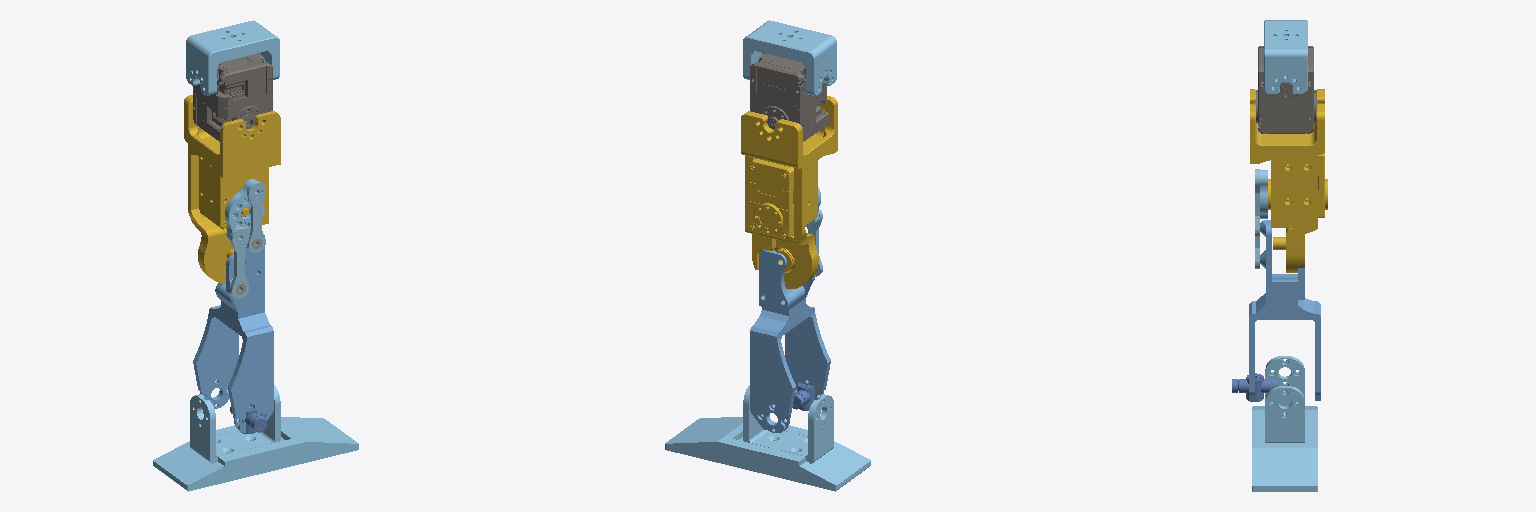
robot.urdf — left_leg_OP3:
<?xml version="1.0" ?><robot name="left_leg_OP3">  
  <link name="hip_yaw_link">    
    <visual>      
      <origin xyz="0 0 0" rpy="0 -0 0"/>      
      <geometry>        
        <mesh filename="package:///meshes/left_hip_yaw_link_visual.stl"/>        
      </geometry>      
      <material name="hip_yaw_link_material">        
        <color rgba="0.61568627450980395466 0.81176470588235294379 0.92941176470588238168 1.0"/>        
      </material>      
    </visual>    
    <collision>      
      <origin xyz="0 0 0" rpy="0 -0 0"/>      
      <geometry>        
        <mesh filename="package:///meshes/left_hip_yaw_link_collision.stl"/>        
      </geometry>      
    </collision>    
    <inertial>      
      <origin xyz="1.0532246795734317281e-18 -3.2729265647360023203e-19 -0.0098919667346054479529" rpy="0 0 0"/>      
      <mass value="0.01799999999999999864"/>      
      <inertia ixx="2.6483505271519531846e-06" ixy="0" ixz="0" iyy="7.705535799600823457e-06" iyz="0" izz="7.773668280680534143e-06"/>      
    </inertial>    
  </link>  

  <link name="hip_roll_link">    
    <visual>      
      <origin xyz="0 0 0" rpy="0 -0 0"/>      
      <geometry>        
        <mesh filename="package:///meshes/left_hip_roll_link_visual.stl"/>        
      </geometry>      
      <material name="hip_roll_link_material">        
        <color rgba="0.51698661238356047321 0.5034781595109349972 0.49050589017722018292 1.0"/>        
      </material>      
    </visual>    
    <collision>      
      <origin xyz="0 0 0" rpy="0 -0 0"/>      
      <geometry>        
        <mesh filename="package:///meshes/left_hip_roll_link_collision.stl"/>        
      </geometry>      
    </collision>    
    <inertial>      
      <origin xyz="-0.011999849582186212366 -0.00049598090793881183941 -0.018504111838599408835" rpy="0 0 0"/>      
      <mass value="0.11059999999836234164"/>      
      <inertia ixx="2.281880259901900124e-05" ixy="-4.6520143286870959553e-08" ixz="-4.6888548260596745746e-08" iyy="3.087163208233954277e-05" iyz="-5.7477343899715787239e-07" izz="3.0871666424470034398e-05"/>      
    </inertial>    
  </link>  

  <link name="left_hip_pitch_link_xm430">    
    <visual>      
      <origin xyz="0 0 0" rpy="0 -0 0"/>      
      <geometry>        
        <mesh filename="package:///meshes/left_hip_pitch_link_xm430_visual.stl"/>        
      </geometry>      
      <material name="left_hip_pitch_link_xm430_material">        
        <color rgba="0.87072221357329560032 0.72641010956094276274 0.24785169615220697947 1.0"/>        
      </material>      
    </visual>    
    <collision>      
      <origin xyz="0 0 0" rpy="0 -0 0"/>      
      <geometry>        
        <mesh filename="package:///meshes/left_hip_pitch_link_xm430_collision.stl"/>        
      </geometry>      
    </collision>    
    <inertial>      
      <origin xyz="-0.00075729214155279033546 -0.050714785675264821563 -0.012656155119959981714" rpy="0 0 0"/>      
      <mass value="0.11480090135030569798"/>      
      <inertia ixx="6.6072773889430661183e-05" ixy="-4.6080149277689905206e-07" ixz="-1.8170739115337356869e-07" iyy="2.3633638685370106613e-05" iyz="1.4125253925345286349e-06" izz="6.2221728804333952868e-05"/>      
    </inertial>    
  </link>  

  <link name="left_calf_link">    
    <visual>      
      <origin xyz="0 0 0" rpy="0 -0 0"/>      
      <geometry>        
        <mesh filename="package:///meshes/left_calf_link_visual.stl"/>        
      </geometry>      
      <material name="left_calf_link_material">        
        <color rgba="0.522707147375079062 0.70740037950664136357 0.87533206831119547697 1.0"/>        
      </material>      
    </visual>    
    <collision>      
      <origin xyz="0 0 0" rpy="0 -0 0"/>      
      <geometry>        
        <mesh filename="package:///meshes/left_calf_link_collision.stl"/>        
      </geometry>      
    </collision>    
    <inertial>      
      <origin xyz="-0.0044698992063319413839 -0.040537655000345590439 -0.0094043191617599157517" rpy="0 0 0"/>      
      <mass value="0.030999999999999992839"/>      
      <inertia ixx="3.2349006752265086297e-05" ixy="1.4910956274418749833e-06" ixz="1.9651815973591472585e-07" iyy="7.7183393965099278557e-06" iyz="-6.2686077155119481266e-07" izz="2.7323441483284140397e-05"/>      
    </inertial>    
  </link>  

  <link name="bearing_683">    
    <visual>      
      <origin xyz="0 0 0" rpy="0 -0 0"/>      
      <geometry>        
        <mesh filename="package:///meshes/left_bearing_683_visual.stl"/>        
      </geometry>      
      <material name="bearing_683_material">        
        <color rgba="0.64705882352941179736 0.64705882352941179736 0.64705882352941179736 1.0"/>        
      </material>      
    </visual>    
    <collision>      
      <origin xyz="0 0 0" rpy="0 -0 0"/>      
      <geometry>        
        <mesh filename="package:///meshes/left_bearing_683_collision.stl"/>        
      </geometry>      
    </collision>    
    <inertial>      
      <origin xyz="2.786289655858141405e-17 6.2549399515683277405e-19 -0.0015499999999999966929" rpy="0 0 0"/>      
      <mass value="0.00048694686130641804279"/>      
      <inertia ixx="2.1551456503319891521e-09" ixy="7.2107569177297500958e-29" ixz="-4.254742854166947675e-37" iyy="2.1551456503319883249e-09" iyz="-6.7488489126465339793e-38" izz="3.5303647444715305817e-09"/>      
    </inertial>    
  </link>  

  <joint name="left_knee_front_rev_2" type="revolute">    
    <origin xyz="-0.0057402514854763509941 0.013858192987669243346 -0.026199999999999896982" rpy="3.0668764952338581412e-14 -2.4824741237762853711e-14 1.5765933876572135741"/>    
    <parent link="left_calf_link"/>    
    <child link="bearing_683"/>    
    <axis xyz="0 0 1"/>    
    <limit effort="1" velocity="20" lower="-6.283185307179586232" upper="6.283185307179586232"/>    
    <joint_properties friction="0.0"/>    
  </joint>  

  <link name="bearing_683_2">    
    <visual>      
      <origin xyz="0 0 0" rpy="0 -0 0"/>      
      <geometry>        
        <mesh filename="package:///meshes/left_bearing_683_2_visual.stl"/>        
      </geometry>      
      <material name="bearing_683_2_material">        
        <color rgba="0.64705882352941179736 0.64705882352941179736 0.64705882352941179736 1.0"/>        
      </material>      
    </visual>    
    <collision>      
      <origin xyz="0 0 0" rpy="0 -0 0"/>      
      <geometry>        
        <mesh filename="package:///meshes/left_bearing_683_2_collision.stl"/>        
      </geometry>      
    </collision>    
    <inertial>      
      <origin xyz="2.7862896558581346257e-17 -2.4186774283158165466e-19 -0.0015500000000000001624" rpy="0 0 0"/>      
      <mass value="0.00048694686130641804279"/>      
      <inertia ixx="2.1551456503319891521e-09" ixy="-2.277949408228188991e-28" ixz="-1.0479705396393147779e-37" iyy="2.1551456503319883249e-09" iyz="-5.2276028325327961159e-38" izz="3.5303647444715305817e-09"/>      
    </inertial>    
  </link>  

  <joint name="left_knee_back_rev_2" type="revolute">    
    <origin xyz="0.0057402514854763535962 -0.013858192987669326612 -0.026199999999999907391" rpy="4.2802438278248956281e-17 2.6960450327599089653e-16 1.5736949077299307032"/>    
    <parent link="left_calf_link"/>    
    <child link="bearing_683_2"/>    
    <axis xyz="0 0 1"/>    
    <limit effort="1" velocity="20" lower="-6.283185307179586232" upper="6.283185307179586232"/>    
    <joint_properties friction="0.0"/>    
  </joint>  

  <link name="ank_pitch_link">    
    <visual>      
      <origin xyz="0 0 0" rpy="0 -0 0"/>      
      <geometry>        
        <mesh filename="package:///meshes/left_ank_pitch_link_visual.stl"/>        
      </geometry>      
      <material name="ank_pitch_link_material">        
        <color rgba="0.42838831031765528534 0.55128652208657225042 0.74128917770314917135 1.0"/>        
      </material>      
    </visual>    
    <collision>      
      <origin xyz="0 0 0" rpy="0 -0 0"/>      
      <geometry>        
        <mesh filename="package:///meshes/left_ank_pitch_link_collision.stl"/>        
      </geometry>      
    </collision>    
    <inertial>      
      <origin xyz="-0.012383885521092496268 0.019663604311318850365 0.018862066178914258657" rpy="0 0 0"/>      
      <mass value="0.15976376693924948524"/>      
      <inertia ixx="9.8184006245900559673e-05" ixy="1.073844598249208729e-06" ixz="4.3555854014056574131e-08" iyy="4.2237181854198985686e-05" iyz="-4.1061630166375426993e-07" izz="0.00011168324060678236288"/>      
    </inertial>    
  </link>  

  <link name="ank_roll_link">    
    <visual>      
      <origin xyz="0 0 0" rpy="0 -0 0"/>      
      <geometry>        
        <mesh filename="package:///meshes/left_ank_roll_link_visual.stl"/>        
      </geometry>      
      <material name="ank_roll_link_material">        
        <color rgba="0.61568627450980384364 0.81176470588235294379 0.92941176470588238168 1.0"/>        
      </material>      
    </visual>    
    <collision>      
      <origin xyz="0 0 0" rpy="0 -0 0"/>      
      <geometry>        
        <mesh filename="package:///meshes/left_ank_roll_link_collision.stl"/>        
      </geometry>      
    </collision>    
    <inertial>      
      <origin xyz="-0.02698123077752402621 2.0010907056387168719e-12 -0.033733185742545877817" rpy="0 0 0"/>      
      <mass value="0.042600000000000005917"/>      
      <inertia ixx="3.7270477448019651533e-05" ixy="5.5380887099792218599e-16" ixz="-2.3925937758711028126e-06" iyy="3.7621548160200361322e-05" iyz="5.081685885004166252e-12" izz="1.012619291415883906e-05"/>      
    </inertial>    
  </link>  

  <joint name="left_ank_roll" type="revolute">    
    <origin xyz="-1.3877787807814456755e-15 0.022750000000004225176 0.019000000000006383311" rpy="1.5707963267949556219 8.2263916424954431126e-14 3.1415926535897686911"/>    
    <parent link="ank_pitch_link"/>    
    <child link="ank_roll_link"/>    
    <axis xyz="0 0 1"/>    
    <limit effort="1" velocity="20" lower="-1.570796326794896558" upper="1.570796326794896558"/>    
    <joint_properties friction="0.0"/>    
  </joint>  

  <joint name="left_ank_pitch" type="revolute">    
    <origin xyz="0.00050000000000001020191 -0.099999999999999866773 -0.029399999999999901906" rpy="1.3838214396829414281e-15 2.3817753328472465846e-15 -1.5707963267948936714"/>    
    <parent link="left_calf_link"/>    
    <child link="ank_pitch_link"/>    
    <axis xyz="0 0 1"/>    
    <limit effort="1" velocity="20" lower="-1.7453292519943295336" upper="0.785398163397448279"/>    
    <joint_properties friction="0.0"/>    
  </joint>  

  <joint name="left_knee_pitch" type="revolute">    
    <origin xyz="3.2091917465512721632e-17 -0.09600000000000005751 -0.0091999999999999877015" rpy="2.8679386715174528955e-15 -1.3560834537223585781e-14 2.8113261283774143445e-14"/>    
    <parent link="left_hip_pitch_link_xm430"/>    
    <child link="left_calf_link"/>    
    <axis xyz="0 0 1"/>    
    <limit effort="1" velocity="20" lower="0" upper="2.0943951023931952626"/>    
    <joint_properties friction="0.0"/>    
  </joint>  

  <link name="xm430_plate">    
    <visual>      
      <origin xyz="0 0 0" rpy="0 -0 0"/>      
      <geometry>        
        <mesh filename="package:///meshes/left_xm430_plate_visual.stl"/>        
      </geometry>      
      <material name="xm430_plate_material">        
        <color rgba="0.61568627450980395466 0.81176470588235294379 0.9294117647058824927 1.0"/>        
      </material>      
    </visual>    
    <collision>      
      <origin xyz="0 0 0" rpy="0 -0 0"/>      
      <geometry>        
        <mesh filename="package:///meshes/left_xm430_plate_collision.stl"/>        
      </geometry>      
    </collision>    
    <inertial>      
      <origin xyz="3.4983604815726119949e-18 2.0257731347679513894e-18 -0.0024039046431217920424" rpy="0 0 0"/>      
      <mass value="0.0026999999999999992756"/>      
      <inertia ixx="1.2933116645363413477e-07" ixy="-6.8936588702566466883e-08" ixz="-1.1552007510864342606e-35" iyy="2.6720434385876688324e-07" iyz="3.1049265135902064719e-36" izz="3.8533537562751439267e-07"/>      
    </inertial>    
  </link>  

  <link name="knee_rod">    
    <visual>      
      <origin xyz="0 0 0" rpy="0 -0 0"/>      
      <geometry>        
        <mesh filename="package:///meshes/left_knee_rod_visual.stl"/>        
      </geometry>      
      <material name="knee_rod_material">        
        <color rgba="0.62051618944235198416 0.78640765248647581664 0.88594253031295022716 1.0"/>        
      </material>      
    </visual>    
    <collision>      
      <origin xyz="0 0 0" rpy="0 -0 0"/>      
      <geometry>        
        <mesh filename="package:///meshes/left_knee_rod_collision.stl"/>        
      </geometry>      
    </collision>    
    <inertial>      
      <origin xyz="0.014594546691135214939 -4.2302323076370082369e-05 -0.0015996227373169451084" rpy="0 0 0"/>      
      <mass value="0.0031629468613064179276"/>      
      <inertia ixx="2.5896152838584628618e-08" ixy="3.5533843515041570418e-10" ixz="4.168297281345748359e-10" iyy="6.015325002708141448e-07" iyz="-1.2081818257097959398e-12" izz="6.2266858883150478494e-07"/>      
    </inertial>    
  </link>  

  <joint name="left_knee_front_rev_1" type="revolute">    
    <origin xyz="0.013858192987669507024 0.0057402514854762061447 -0.0050000000000007330248" rpy="7.2820716485250802911e-15 3.800162938454114633e-14 -3.1357955927274758778"/>    
    <parent link="xm430_plate"/>    
    <child link="knee_rod"/>    
    <axis xyz="0 0 1"/>    
    <limit effort="1" velocity="20" lower="-6.283185307179586232" upper="6.283185307179586232"/>    
    <joint_properties friction="0.0"/>    
  </joint>  

  <link name="knee_rod_2">    
    <visual>      
      <origin xyz="0 0 0" rpy="0 -0 0"/>      
      <geometry>        
        <mesh filename="package:///meshes/left_knee_rod_2_visual.stl"/>        
      </geometry>      
      <material name="knee_rod_2_material">        
        <color rgba="0.62051618944235198416 0.78640765248647581664 0.88594253031295022716 1.0"/>        
      </material>      
    </visual>    
    <collision>      
      <origin xyz="0 0 0" rpy="0 -0 0"/>      
      <geometry>        
        <mesh filename="package:///meshes/left_knee_rod_2_collision.stl"/>        
      </geometry>      
    </collision>    
    <inertial>      
      <origin xyz="0.014594546693013568314 4.2301026627570063009e-05 -0.0015996227373185707612" rpy="0 0 0"/>      
      <mass value="0.0031629468613064179276"/>      
      <inertia ixx="2.5896152775456431038e-08" ixy="-3.5532754508029951482e-10" ixz="4.1682972819620077381e-10" iyy="6.015325003024070973e-07" iyz="1.2081447831741893919e-12" izz="6.2266858879996064271e-07"/>      
    </inertial>    
  </link>  

  <joint name="left_knee_back_rev_1" type="revolute">    
    <origin xyz="-0.013858192987669326612 -0.0057402514854763431879 -0.004999999999999997502" rpy="-4.4795806497323614513e-17 1.2898425949264794231e-14 -3.1386940726547587488"/>    
    <parent link="xm430_plate"/>    
    <child link="knee_rod_2"/>    
    <axis xyz="0 0 1"/>    
    <limit effort="1" velocity="20" lower="-6.283185307179586232" upper="6.283185307179586232"/>    
    <joint_properties friction="0.0"/>    
  </joint>  

  <joint name="left_knee_act" type="revolute">    
    <origin xyz="-0.00014999999999968871242 -0.061500000000000318301 -0.030400000000000086675" rpy="-1.0593309150913038177e-14 1.0308748735206783672e-14 1.5707963267949243136"/>    
    <parent link="left_hip_pitch_link_xm430"/>    
    <child link="xm430_plate"/>    
    <axis xyz="0 0 1"/>    
    <limit effort="1" velocity="20" lower="0" upper="2.0943951023931952626"/>    
    <joint_properties friction="0.0"/>    
  </joint>  

  <joint name="left_hip_pitch" type="revolute">    
    <origin xyz="-0.024000000716156173058 -0.019000000152439983775 -0.019000000152458156738" rpy="1.5707963267953681807 1.570796326794433817 0"/>    
    <parent link="hip_roll_link"/>    
    <child link="left_hip_pitch_link_xm430"/>    
    <axis xyz="0 0 1"/>    
    <limit effort="1" velocity="20" lower="-1.570796326794896558" upper="1.570796326794896558"/>    
    <joint_properties friction="0.0"/>    
  </joint>  

  <joint name="left_hip_roll" type="revolute">    
    <origin xyz="0.018999999999999999528 -3.3408590380433372139e-18 -0.026000000000000002276" rpy="3.141592653589793116 -1.5707963267948821251 0"/>    
    <parent link="hip_yaw_link"/>    
    <child link="hip_roll_link"/>    
    <axis xyz="0 0 1"/>    
    <limit effort="1" velocity="20" lower="-0.785398163397448279" upper="0.785398163397448279"/>    
    <joint_properties friction="0.0"/>    
  </joint>  


</robot>

--- Render facts (derived) ---
Views: 3 orthographic renders of the robot side by side, from view 1: azimuth 30°, elevation 25°; view 2: azimuth 150°, elevation 25°; view 3: azimuth 270°, elevation 25°.
Model left_leg_OP3 with 11 links and 10 joints (10 revolute), rooted at hip_yaw_link, posed all joints at 0.
Visible links, largest first — view 1: ank_roll_link, left_hip_pitch_link_xm430, left_calf_link, hip_roll_link, hip_yaw_link, knee_rod_2, xm430_plate, knee_rod; view 2: left_hip_pitch_link_xm430, ank_roll_link, left_calf_link, hip_roll_link, hip_yaw_link; view 3: left_hip_pitch_link_xm430, ank_roll_link, left_calf_link, hip_yaw_link, hip_roll_link, ank_pitch_link.
Link boxes in pixels (x1,y1,x2,y2): ank_roll_link: (153, 385, 358, 491); left_hip_pitch_link_xm430: (184, 95, 280, 283); left_calf_link: (193, 232, 273, 432); hip_roll_link: (193, 53, 272, 141); hip_yaw_link: (186, 20, 279, 95); knee_rod_2: (230, 227, 249, 298); xm430_plate: (225, 179, 264, 240); knee_rod: (247, 181, 265, 252); left_hip_pitch_link_xm430: (741, 96, 837, 288); ank_roll_link: (665, 385, 870, 491); left_calf_link: (750, 250, 830, 432); hip_roll_link: (750, 53, 829, 141); hip_yaw_link: (743, 20, 836, 95); left_hip_pitch_link_xm430: (1250, 89, 1327, 272); ank_roll_link: (1252, 356, 1317, 491); left_calf_link: (1249, 220, 1320, 400); hip_yaw_link: (1264, 20, 1307, 93); hip_roll_link: (1254, 46, 1318, 133); ank_pitch_link: (1232, 373, 1277, 401).
Bounding box of the posed robot: 0.12 × 0.0608 × 0.285 m (x, y, z).
Meshes: 11 distinct files referenced, 11 mesh visuals loaded (11 binary STL).